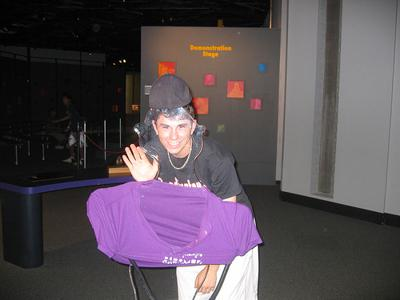person: (121, 98, 259, 300)
